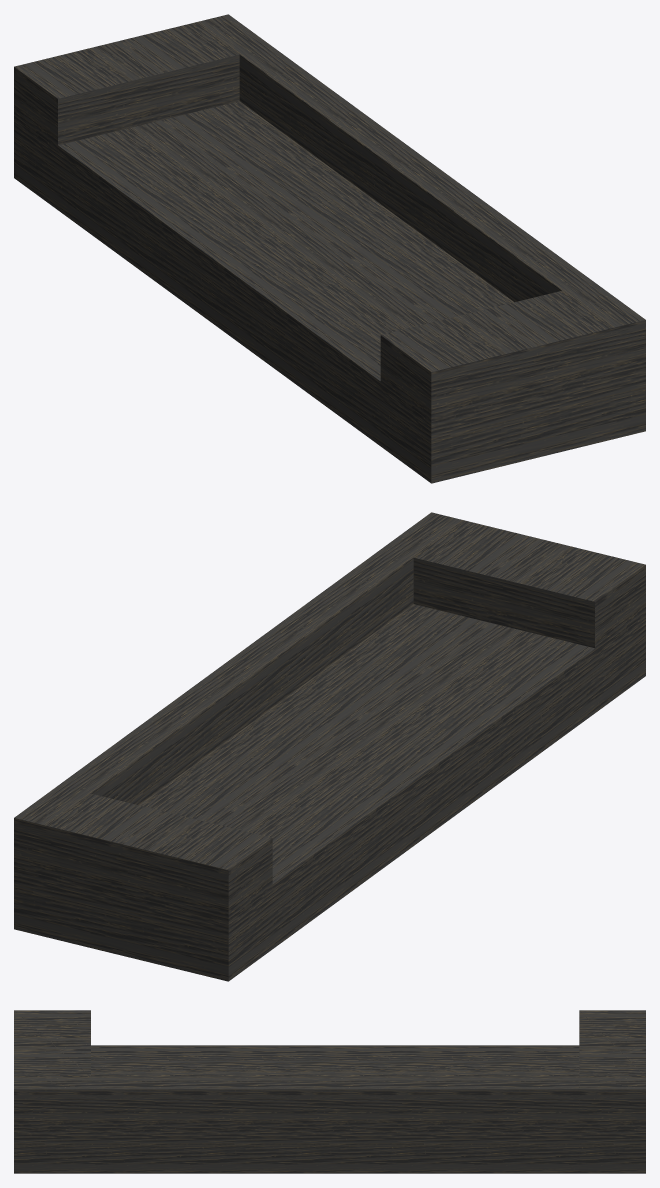
The model's file is Tavolo.fbx.
3 views of the same model, one above another, from view 1: azimuth 30°, elevation 25°; view 2: azimuth 150°, elevation 25°; view 3: azimuth 270°, elevation 25° (orthographic). The views are drawn at different scales.
Parts seen in each view (by area): view 1: Console_table; view 2: Console_table; view 3: Console_table.
Boxes of the visible parts, <box> form: Console_table: <box>14,14,645,483</box>; Console_table: <box>14,512,645,981</box>; Console_table: <box>14,1010,645,1173</box>.
Size of the model in its own units: 403 by 200 by 1358.
1 material, 1 textured.
